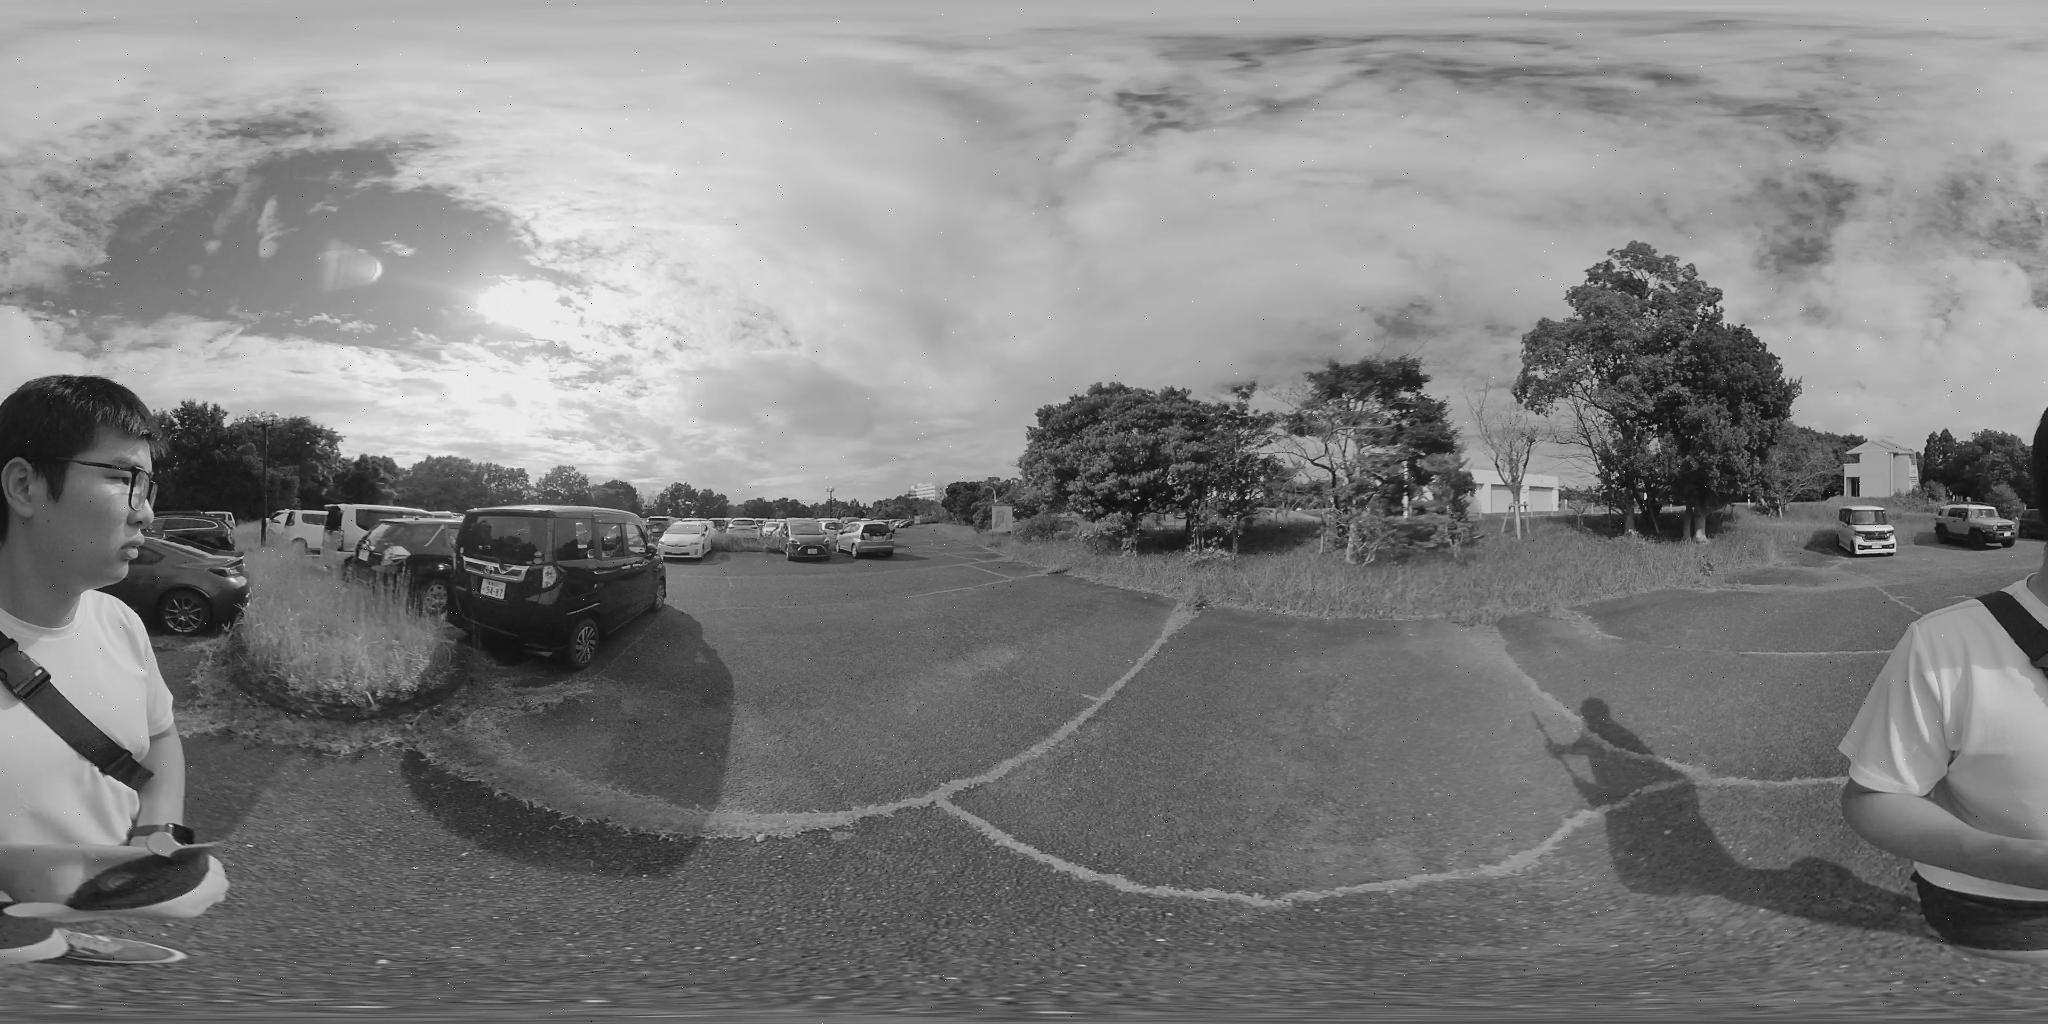car: (462, 507, 658, 649), (101, 533, 249, 637), (346, 517, 461, 593), (1934, 503, 2018, 547), (154, 513, 239, 551), (653, 521, 713, 562), (846, 522, 901, 559), (777, 525, 833, 560)
